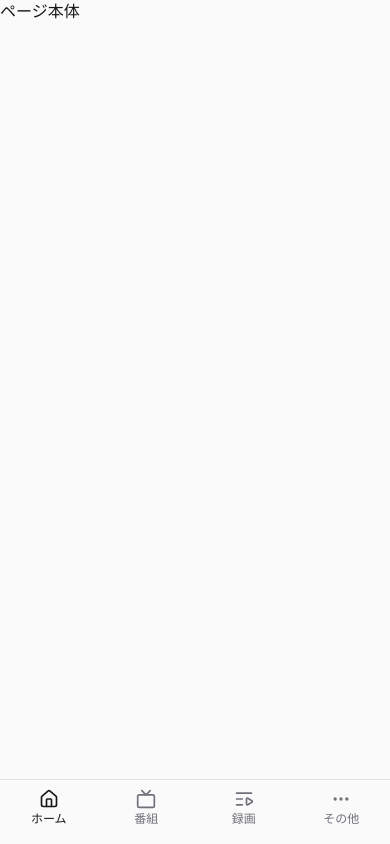
Test: ナビの出し分け（live.enabled） › live.enabled が false でも「その他」の中身からライブだけが消える
Click the button "その他" at {"x": 341, "y": 808}, box [292,780,389,836]
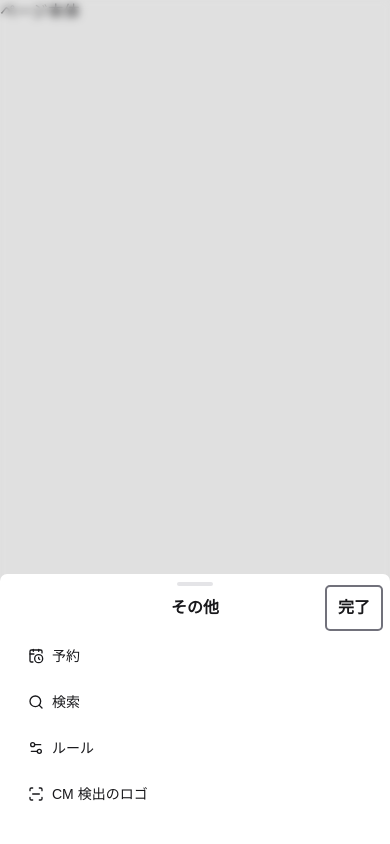
Now the links read "予約", "検索", "ルール", "CM 検出のロゴ", in this order, box [28,648,80,664]; [28,694,80,710]; [28,740,94,756]; [28,786,148,802]
